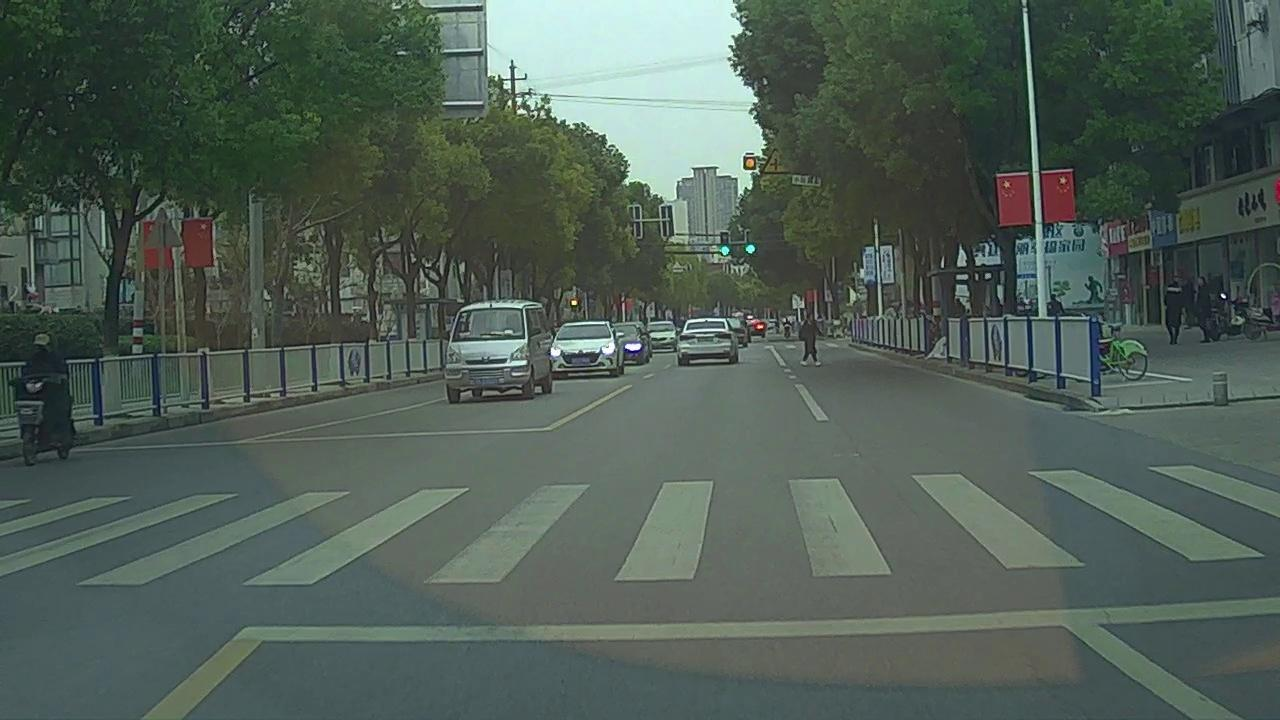traffic_light: (744, 232, 755, 261), (721, 234, 730, 260)
